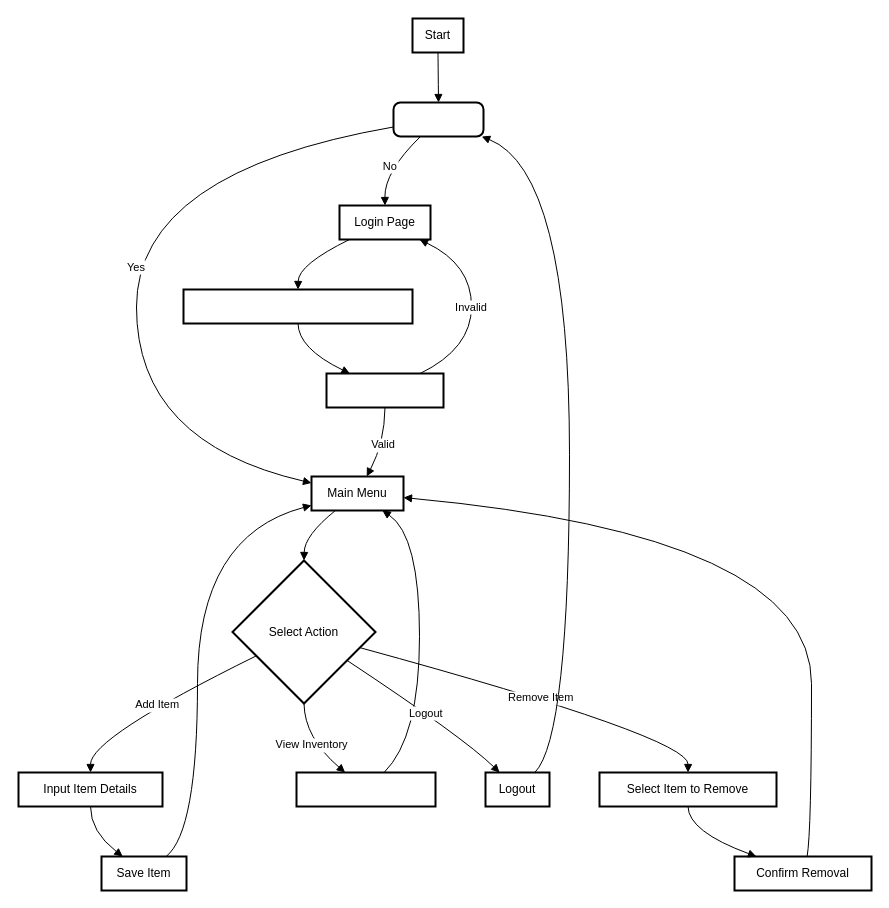
This 889x908 diagram has some shape labels left out. Here are the shapes that lost their labels. From the top down, the centre of each, then its label:
At (x=438, y=119): "Logged in?".
At (x=297, y=306): "Input Username and Password".
At (x=384, y=390): "Validate Login".
At (x=365, y=789): "Display Inventory".
